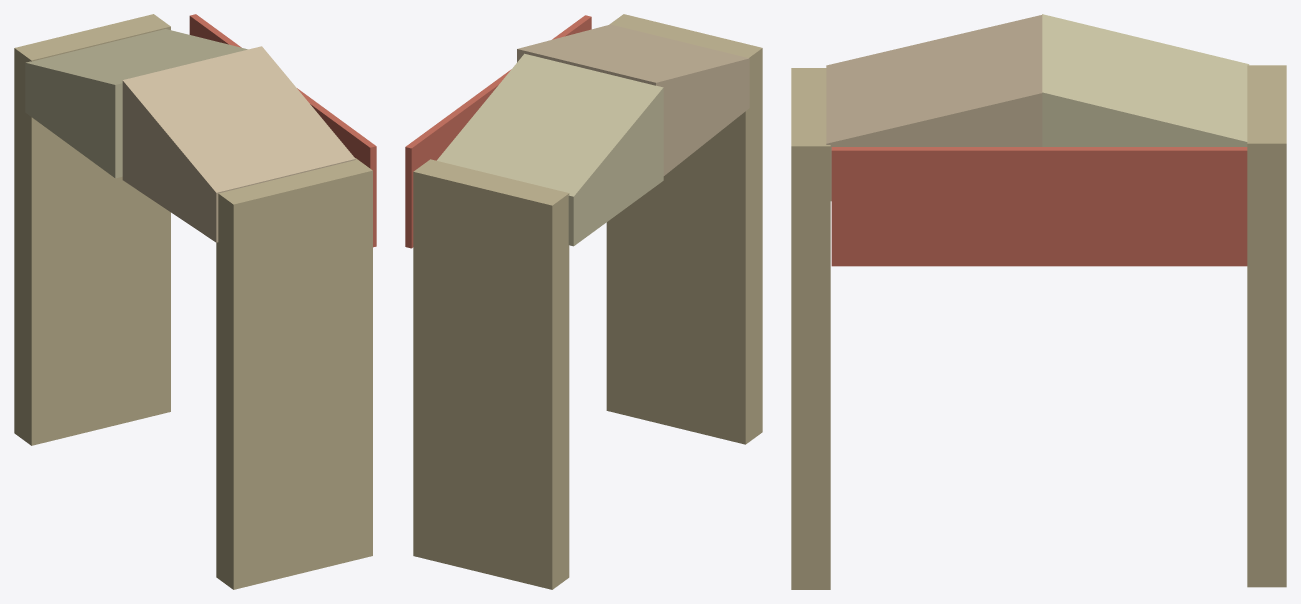
Rendered from stand.fbx.
3 renders of one model, left to right at view 1: azimuth 30°, elevation 25°; view 2: azimuth 150°, elevation 25°; view 3: azimuth 270°, elevation 25°, orthographic. The views are drawn at different scales.
Visible parts, largest first — view 1: Cube.003; view 2: Cube.003; view 3: Cube.003.
Part boxes in pixels (x1=…): Cube.003: x1=14, y1=14, x2=376, y2=589; Cube.003: x1=405, y1=14, x2=762, y2=589; Cube.003: x1=791, y1=14, x2=1286, y2=589.
Size of the model in its own units: 244 by 590 by 534.
